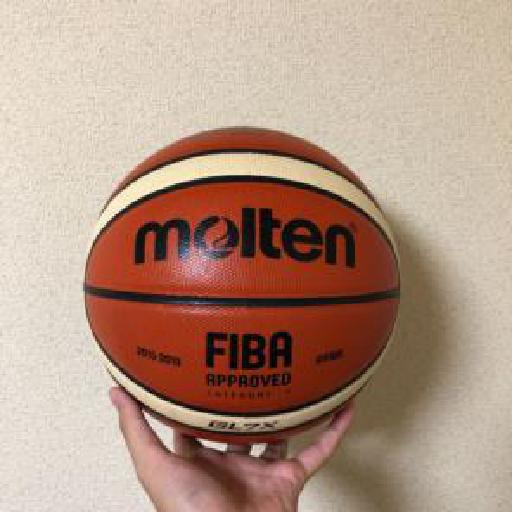ball: (86, 126, 401, 446)
